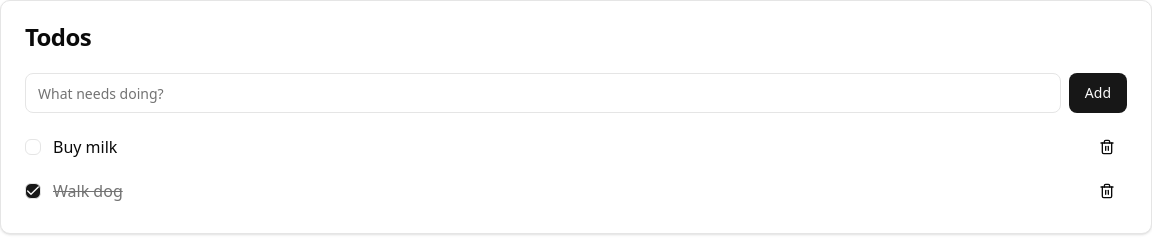
Scenario: TodoList › cancels edit on Escape
The width and height of the screenshot is (1152, 252).
Click the button named "Edit \"Buy milk\"" at (85, 147), box x1=53 y1=136 x2=117 y2=158
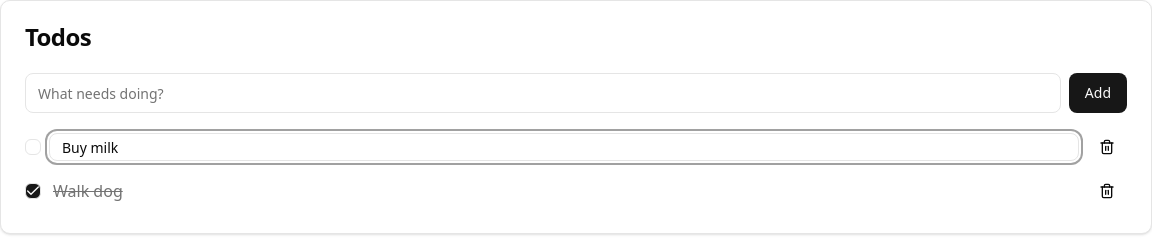
Press Escape
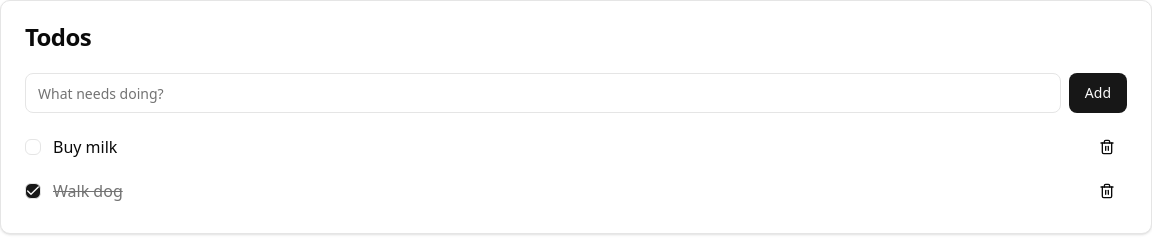
Now the button named "Edit \"Buy milk\"" is shown, box x1=53 y1=136 x2=117 y2=158
